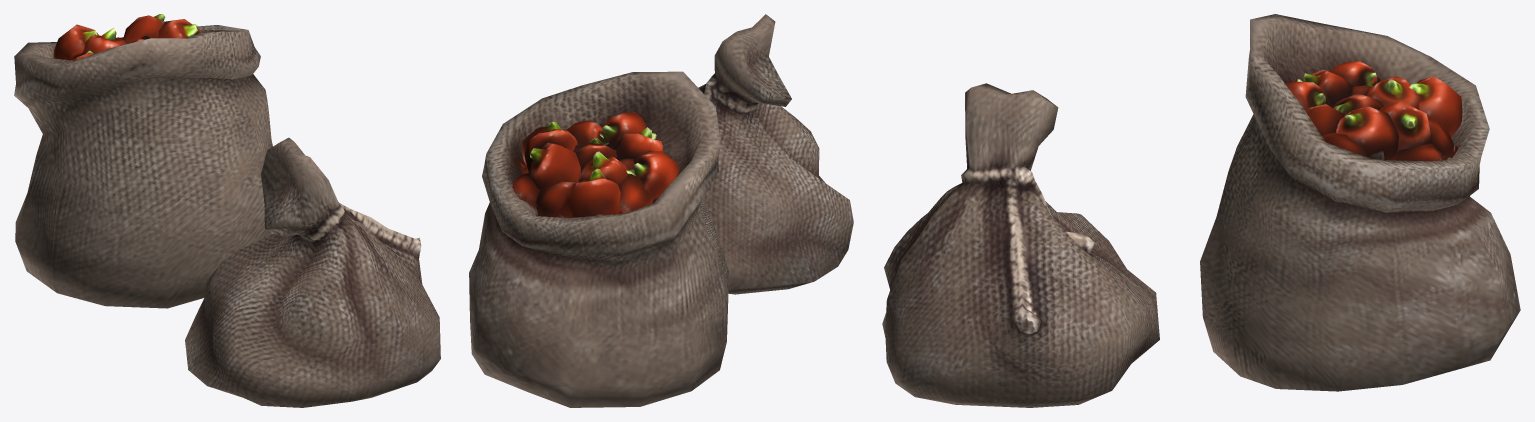
Rendered from Bag.FBX.
3 renders of one model, left to right at view 1: azimuth 30°, elevation 25°; view 2: azimuth 150°, elevation 25°; view 3: azimuth 270°, elevation 25°, orthographic. The views are drawn at different scales.
Parts seen in each view (by area): view 1: Bag A, Bag B; view 2: Bag A, Bag B; view 3: Bag A, Bag B.
Boxes of the visible parts, <box> form: Bag A: <box>14,14,272,308</box>; Bag B: <box>185,137,440,407</box>; Bag A: <box>469,71,728,407</box>; Bag B: <box>698,14,853,294</box>; Bag A: <box>1200,14,1520,391</box>; Bag B: <box>882,83,1159,407</box>.
Bounding box in the file's own units: 48.95 × 93.13 × 51.3.
